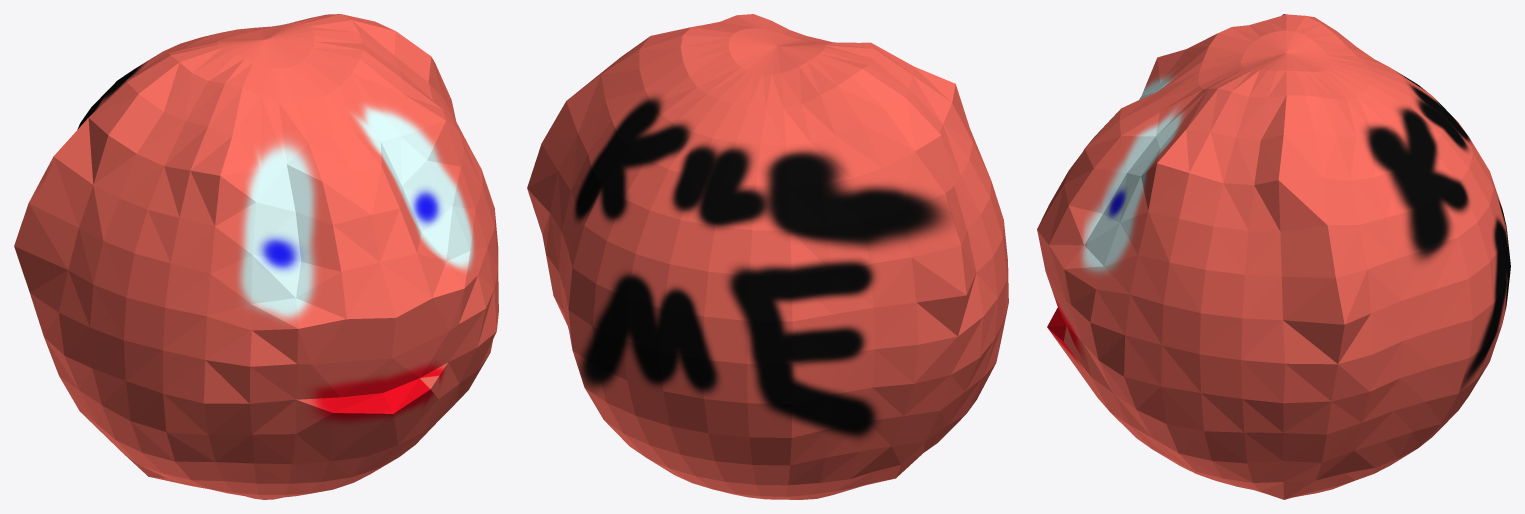
The model's file is killme.dae.
3 renders of one model, left to right at view 1: azimuth 30°, elevation 25°; view 2: azimuth 150°, elevation 25°; view 3: azimuth 270°, elevation 25°, orthographic. The views are drawn at different scales.
Parts seen in each view (by area): view 1: Sphere; view 2: Sphere; view 3: Sphere.
Part boxes in pixels (x1,y1,x2,y2): Sphere: [14, 14, 498, 499]; Sphere: [527, 14, 1008, 499]; Sphere: [1037, 14, 1510, 499].
Bounding box in the file's own units: 2.18 × 2.1 × 2.09.
1 material, 1 textured.
